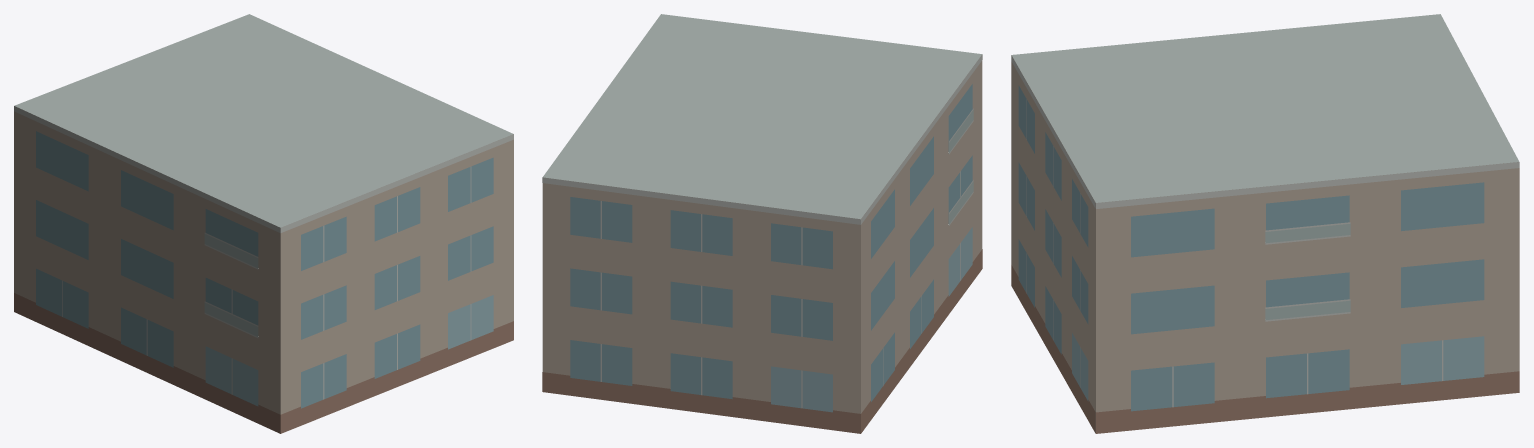
Rendered from survey-upis-32861518.glb.
3 views of the same model, side by side, from view 1: azimuth 30°, elevation 25°; view 2: azimuth 150°, elevation 25°; view 3: azimuth 270°, elevation 25° (orthographic). The views are drawn at different scales.
Parts seen in each view (by area): view 1: survey-upis-32861518.tmp; view 2: survey-upis-32861518.tmp; view 3: survey-upis-32861518.tmp.
Part boxes in pixels (x1,y1,x2,y2): survey-upis-32861518.tmp: (14,14,513,433); survey-upis-32861518.tmp: (542,14,982,433); survey-upis-32861518.tmp: (1011,14,1519,433).
Bounding box in the file's own units: 16.08 × 9.15 × 18.26.
